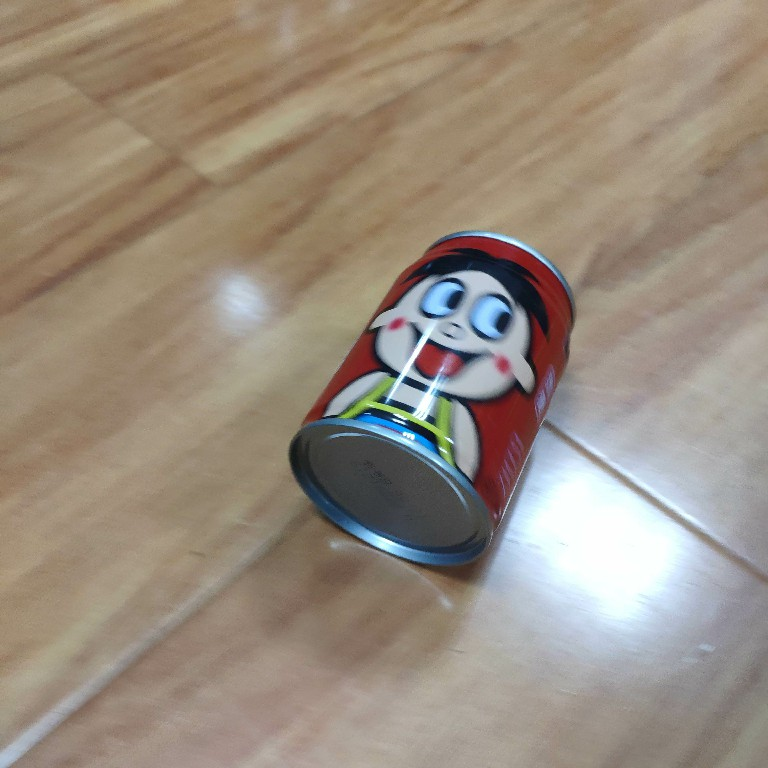can: (285, 227, 579, 569)
